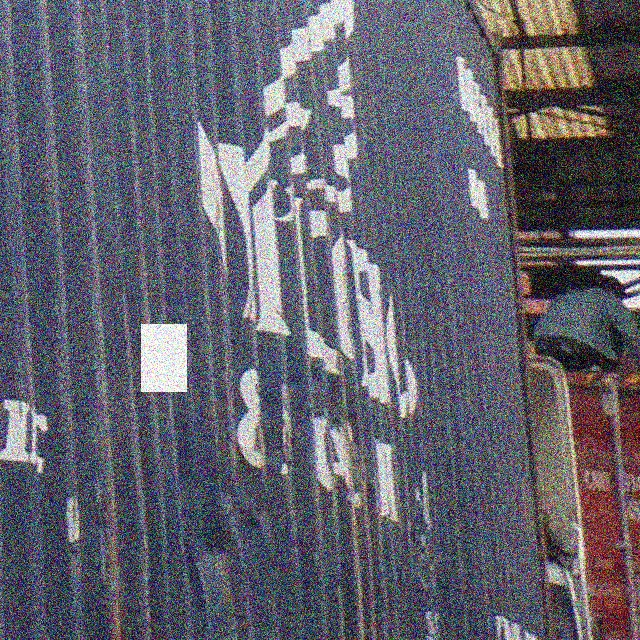Dent: (164, 406, 300, 619)
